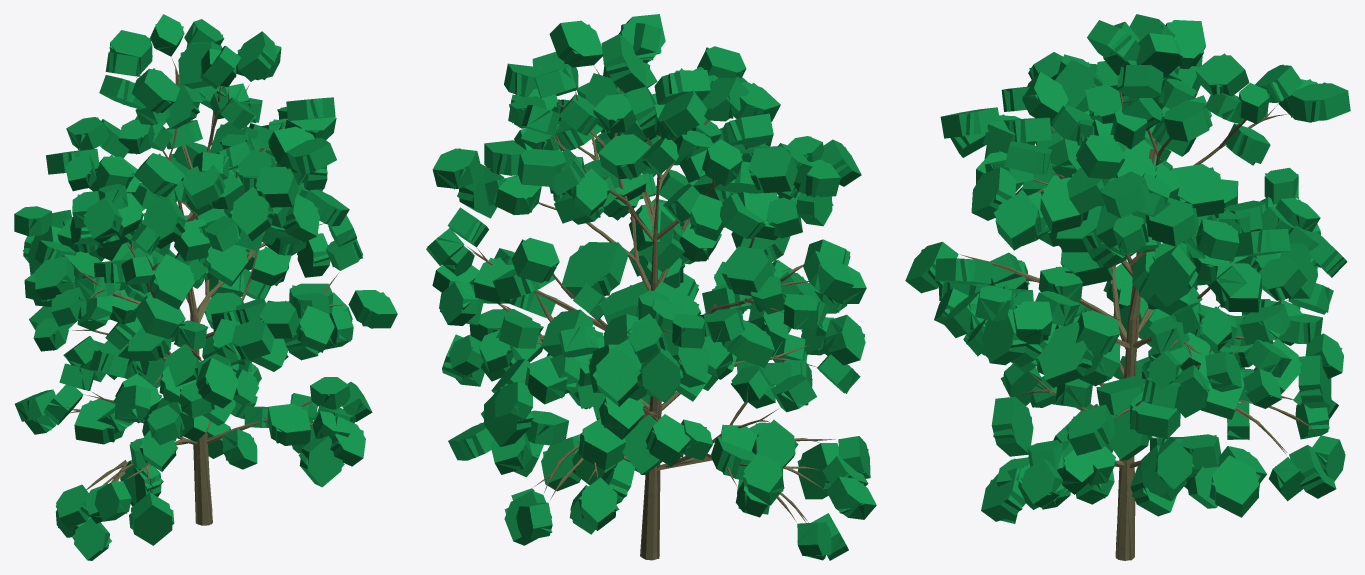
File: bigLeavesShrubsL.fbx
The picture shows the model from 3 angles, left to right: view 1: azimuth 30°, elevation 25°; view 2: azimuth 150°, elevation 25°; view 3: azimuth 270°, elevation 25°; orthographic projection. The views are drawn at different scales.
Visible parts, largest first — view 1: bigLeavesShrubsL, bigLeavesShrubsL1, bigLeavesShrubsL2; view 2: bigLeavesShrubsL, bigLeavesShrubsL1, bigLeavesShrubsL2; view 3: bigLeavesShrubsL, bigLeavesShrubsL1, bigLeavesShrubsL2.
Part boxes in pixels (<box>): bigLeavesShrubsL: <box>14,14,397,560</box>; bigLeavesShrubsL1: <box>14,14,396,560</box>; bigLeavesShrubsL2: <box>15,24,385,550</box>; bigLeavesShrubsL: <box>426,14,876,560</box>; bigLeavesShrubsL1: <box>426,14,875,559</box>; bigLeavesShrubsL2: <box>428,23,868,559</box>; bigLeavesShrubsL: <box>905,14,1350,559</box>; bigLeavesShrubsL1: <box>905,14,1350,560</box>; bigLeavesShrubsL2: <box>921,22,1344,560</box>.
Bounding box in the file's own units: 103 × 134 × 100.
